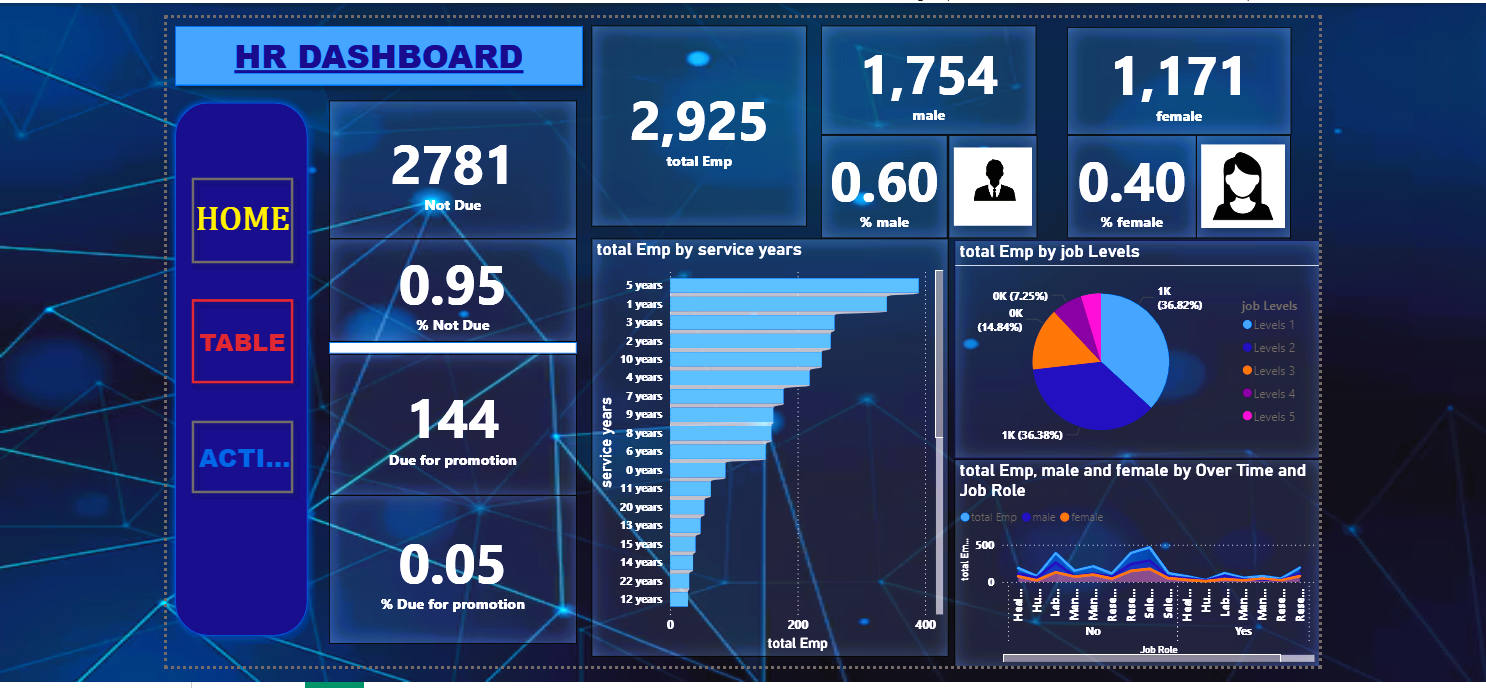

What the dashboard file says about the page in this screenshot:
{"tool":"powerbi","page":{"name":"Page 1","canvas":[1280,720],"ordinal":0},"visuals":[{"type":"shape","title":"HR  DASHBOARD ","box":[0,0,471.2,84.2],"z":0},{"type":"card","fields":{"Values":["all measures.male"]},"box":[727,8.1,239.6,121.4],"z":0,"group":"g1"},{"type":"card","fields":{"Values":["all measures.total Emp"]},"box":[471.2,8.1,239.6,223.5],"z":1000,"group":"g1"},{"type":"shape","box":[0,84.2,165.2,610.4],"z":1000},{"type":"card","fields":{"Values":["all measures.% male"]},"box":[727,129.5,140.9,115],"z":2000,"group":"g1"},{"type":"actionButton","box":[17.8,168.4,131.2,113.3],"z":2000},{"type":"card","fields":{"Values":["all measures.female"]},"box":[999,9.7,249.4,119.8],"z":3000,"group":"g1"},{"type":"actionButton","box":[17.8,302.8,131.2,111.7],"z":3000},{"type":"card","fields":{"Values":["all measures.% female"]},"box":[999,129.5,144.1,115],"z":4000,"group":"g1"},{"type":"actionButton","box":[17.8,438.8,131.2,98.8],"z":4000},{"type":"group","id":"g1","title":"Group 1","box":[179.7,8.1,1101.1,712.5],"z":5000},{"type":"image","box":[867.9,129.5,98.8,115],"z":5000,"group":"g1"},{"type":"card","fields":{"Values":["all measures.Not Due"]},"box":[179.7,90.7,275.3,153.8],"z":6000,"group":"g1"},{"type":"image","box":[1143.1,129.5,105.2,115],"z":7000,"group":"g1"},{"type":"areaChart","fields":{"Y":["all measures.total Emp","all measures.male","all measures.female"],"Category":["Table1.Over Time","Table1.Job Role"]},"box":[874.3,489,406.4,231.5],"z":8000,"group":"g1"},{"type":"card","fields":{"Values":["all measures.% Not Due"]},"box":[179.7,244.5,275.3,115],"z":9000,"group":"g1"},{"type":"shape","box":[179.7,359.5,275.3,13],"z":10000,"group":"g1"},{"type":"card","fields":{"Values":["all measures.Due for promotion"]},"box":[179.7,372.4,275.3,157.1],"z":11000,"group":"g1"},{"type":"card","fields":{"Values":["all measures.% Due for promotion"]},"box":[180,529,275,165],"z":12000,"group":"g1"},{"type":"barChart","fields":{"Category":["Table1.service years"],"Y":["all measures.total Emp"]},"box":[471.2,244.5,396.7,464.7],"z":13000,"group":"g1"},{"type":"pieChart","fields":{"Category":["Table1.job Levels"],"Y":["all measures.total Emp"]},"box":[874.3,246.1,406.4,242.9],"z":14000,"group":"g1"}]}

Visuals, with their boxes on the page's 1280x720 design canvas (x1, y1, x2, y2). These are canvas units, not pixel positions in the 1486x688 screenshot, which may show the page scaled, cropped or inside an application window:
"HR  DASHBOARD " shape: 0, 0, 471, 84
card - all measures.male: 727, 8, 967, 130
card - all measures.total Emp: 471, 8, 711, 232
shape: 0, 84, 165, 695
card - all measures.% male: 727, 130, 868, 244
actionButton: 18, 168, 149, 282
card - all measures.female: 999, 10, 1248, 130
actionButton: 18, 303, 149, 414
card - all measures.% female: 999, 130, 1143, 244
actionButton: 18, 439, 149, 538
"Group 1" group: 180, 8, 1281, 721
image: 868, 130, 967, 244
card - all measures.Not Due: 180, 91, 455, 244
image: 1143, 130, 1248, 244
areaChart - all measures.total Emp x all measures.male: 874, 489, 1281, 720
card - all measures.% Not Due: 180, 244, 455, 360
shape: 180, 360, 455, 372
card - all measures.Due for promotion: 180, 372, 455, 530
card - all measures.% Due for promotion: 180, 529, 455, 694
barChart - Table1.service years x all measures.total Emp: 471, 244, 868, 709
pieChart - Table1.job Levels x all measures.total Emp: 874, 246, 1281, 489
